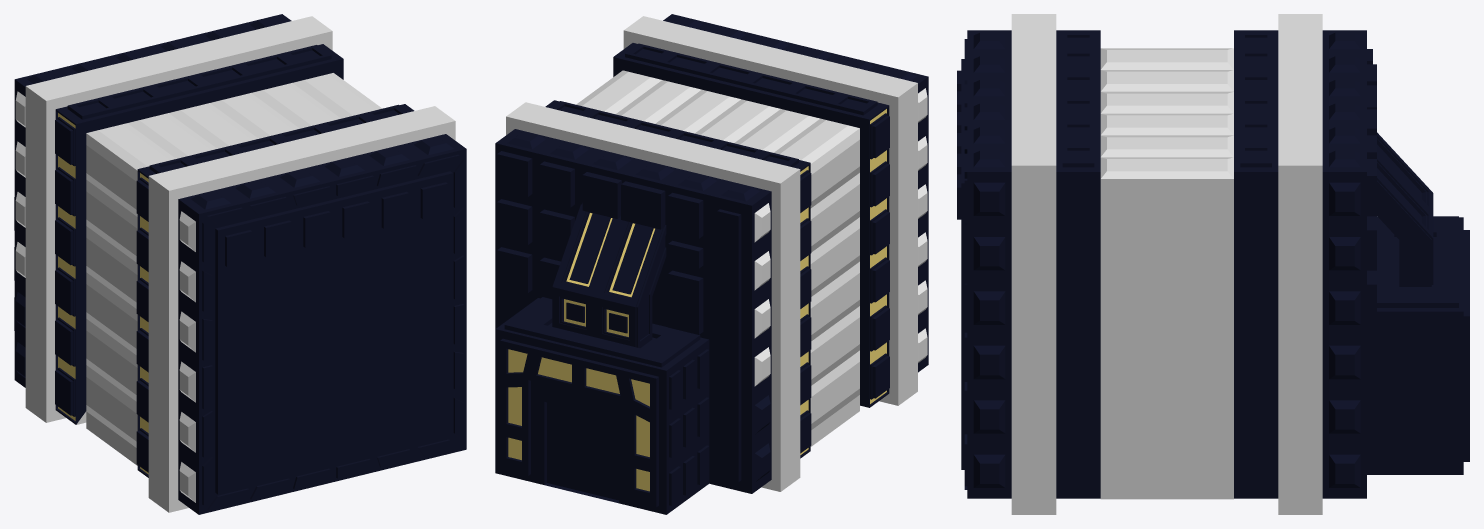
File: building9.fbx
The picture shows the model from 3 angles, left to right: view 1: azimuth 30°, elevation 25°; view 2: azimuth 150°, elevation 25°; view 3: azimuth 270°, elevation 25°; orthographic projection. The views are drawn at different scales.
Visible parts, largest first — view 1: Cube.024; view 2: Cube.024; view 3: Cube.024.
Part boxes in pixels (box(x1,y1,x2,y2)): Cube.024: box(14, 14, 466, 514); Cube.024: box(495, 14, 928, 514); Cube.024: box(957, 14, 1469, 514).
Bounding box in the file's own units: 2668 × 2866 × 3813.
